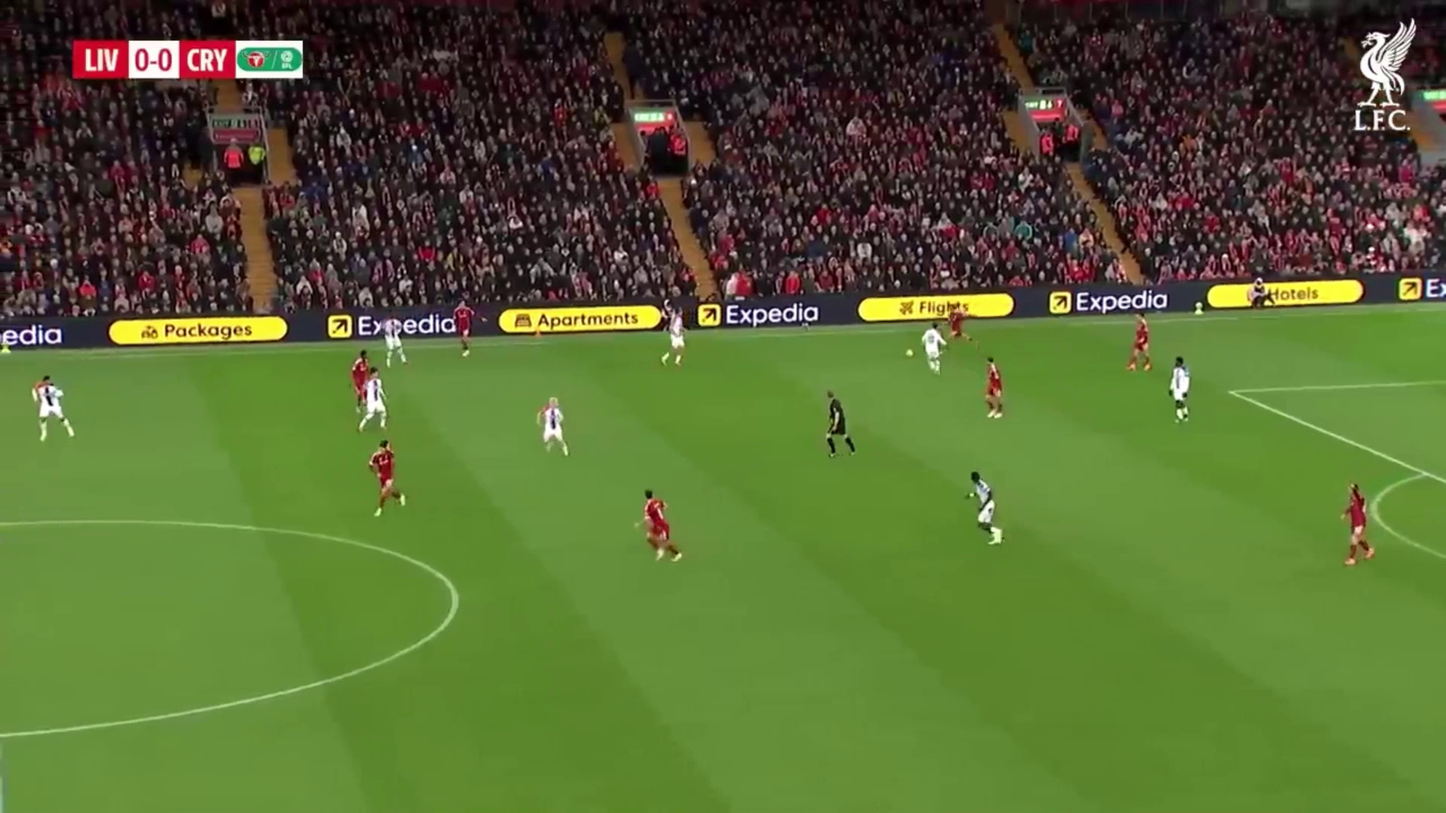player: (639, 489, 683, 563), (32, 373, 76, 443), (1342, 481, 1374, 567), (350, 354, 385, 431), (969, 468, 1003, 545), (367, 441, 401, 516), (823, 389, 856, 456), (537, 395, 570, 458), (1168, 353, 1191, 426), (1127, 316, 1155, 373), (984, 358, 1008, 420), (454, 296, 476, 358), (660, 317, 686, 367), (923, 324, 946, 373)
